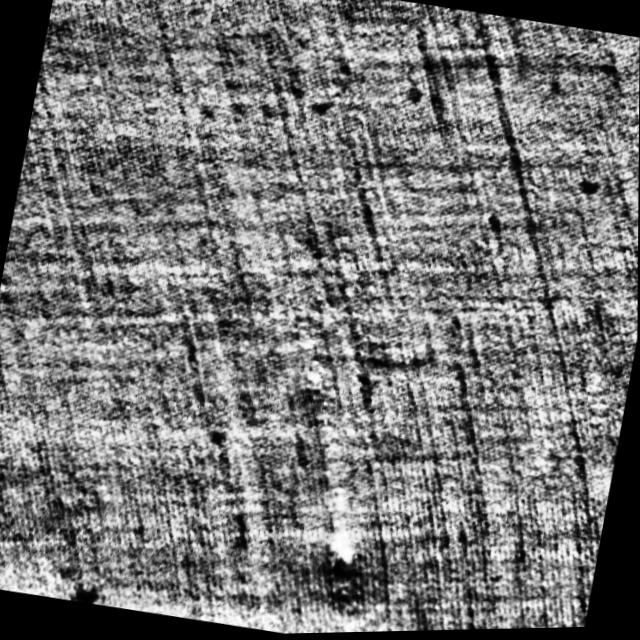Stitch: (244, 301, 410, 585)
